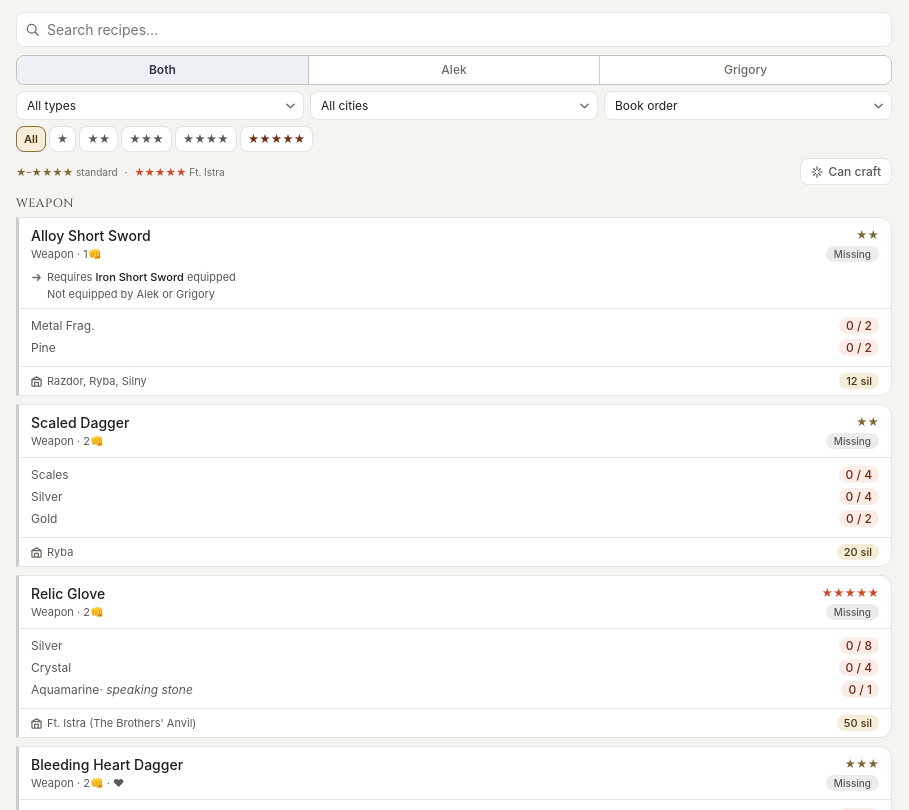
Scenario: CraftTab — search › restores the full list when the search is cleared
This screenshot has width=909, height=810.
Type "tunic" into the search field with class "craft-search" at (454,30), box [16,12,892,47]
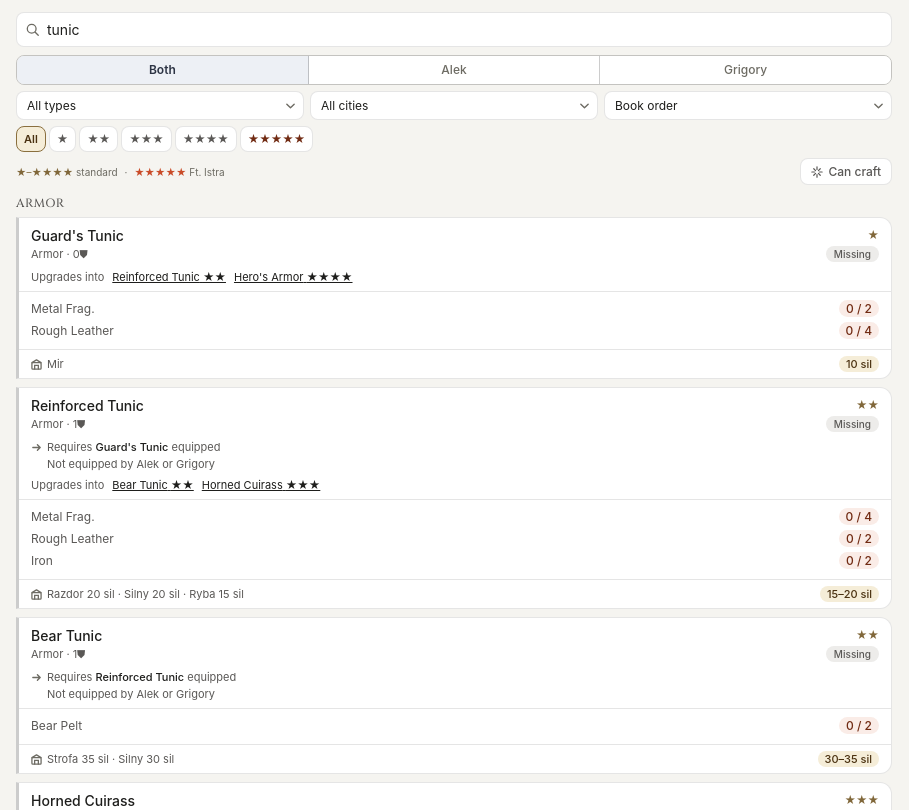
Clear the search field with class "craft-search" at (454,30), box [16,12,892,47]
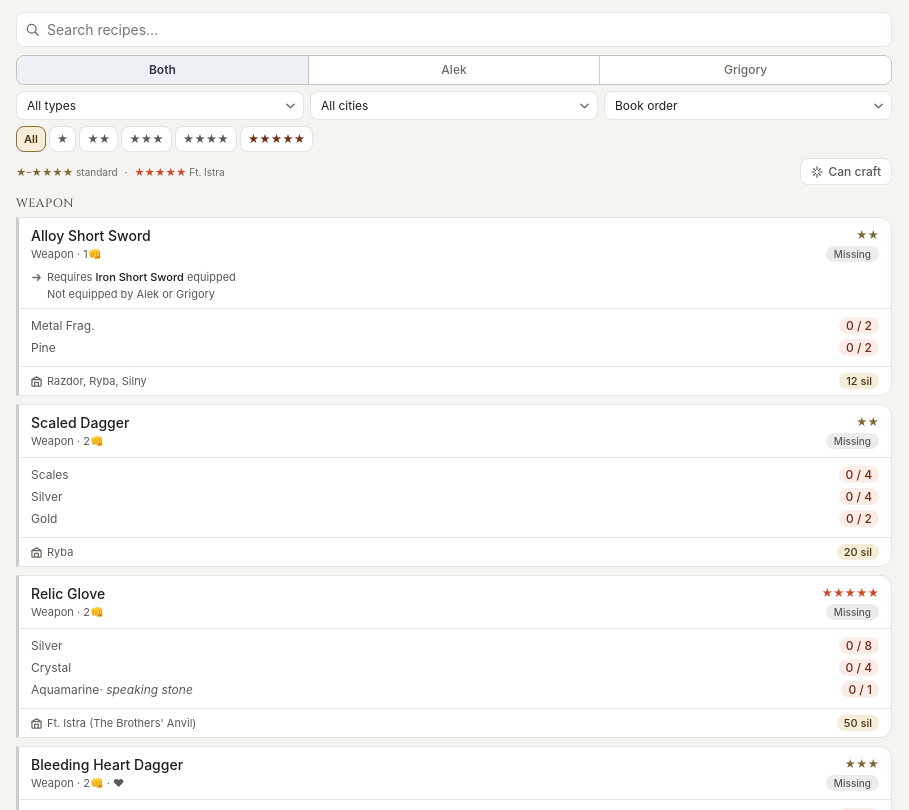
Check: the number of elements with class "craft-card" is 90
